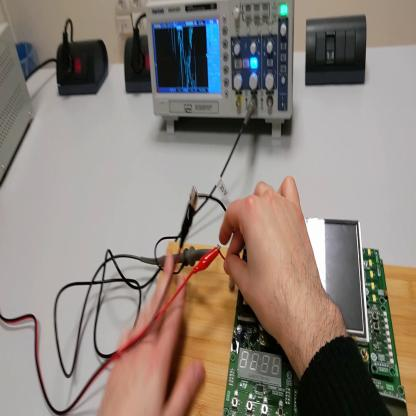hand: (99, 252, 208, 416), (220, 176, 327, 343)
low voltage board: (223, 244, 407, 416)
oscilloscope: (147, 1, 296, 137)
oscilloscope probe tip: (139, 246, 212, 267)
power supply: (2, 23, 36, 188)
socket: (57, 34, 110, 100), (125, 33, 153, 93)
working area: (156, 244, 415, 415)
